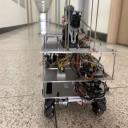cart: (40, 38, 118, 118)
